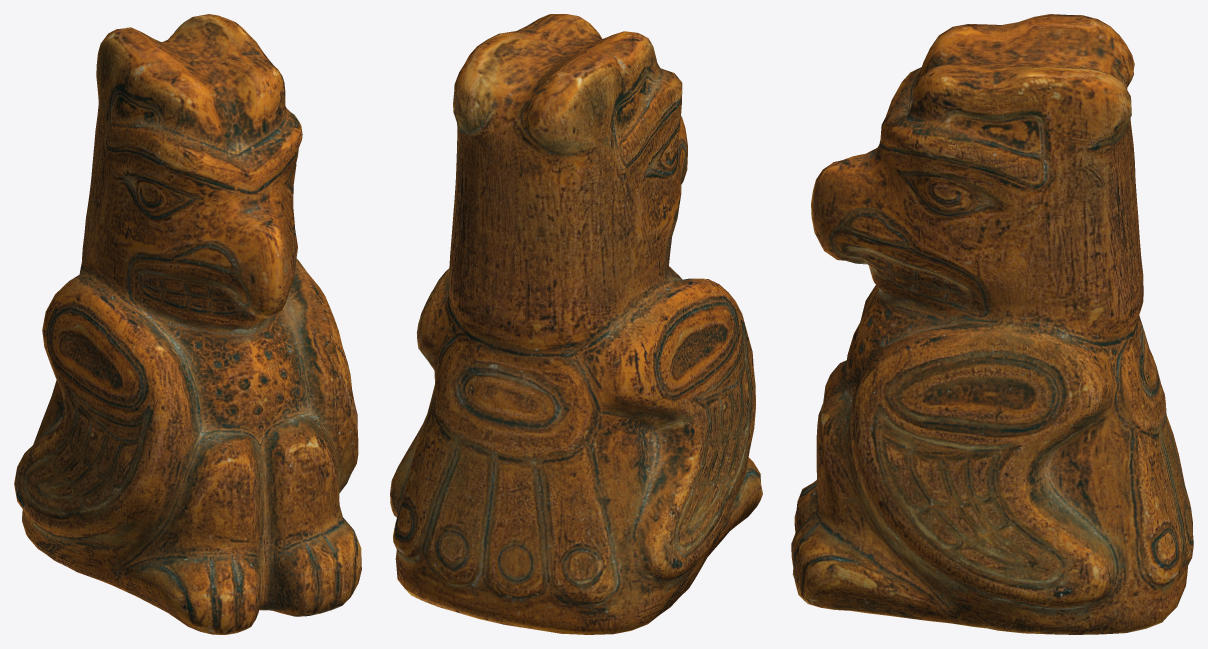
File: totem.obj
3 renders of one model, left to right at view 1: azimuth 30°, elevation 25°; view 2: azimuth 150°, elevation 25°; view 3: azimuth 270°, elevation 25°, orthographic. The views are drawn at different scales.
Visible parts, largest first — view 1: itf_body; view 2: itf_body; view 3: itf_body.
Boxes of the visible parts, left/top/right/bottom form: itf_body: left=14, top=14, right=361, bottom=634; itf_body: left=390, top=14, right=762, bottom=634; itf_body: left=791, top=14, right=1193, bottom=634.
Bounding box in the file's own units: 4.78 × 8.49 × 5.68.
Materials: 1 (1 with a texture image).
